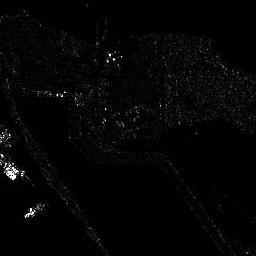ship: (23, 202, 46, 219)
